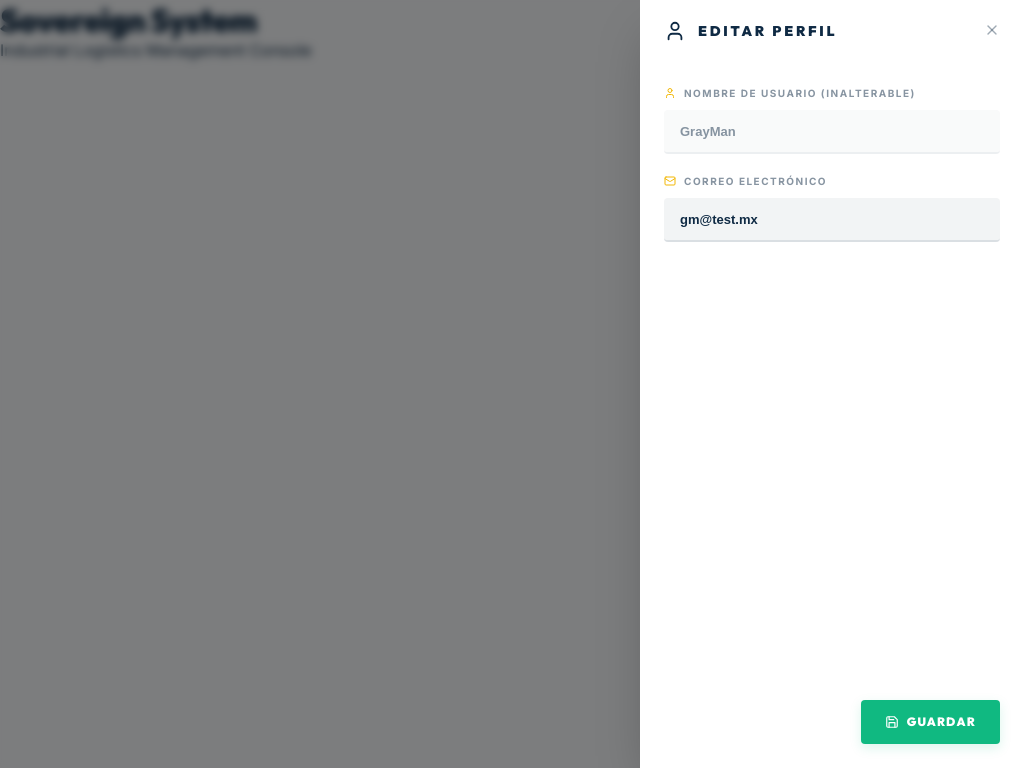
Test: ProfileEditSlideOver — contrato PATCH /auth/users/:id (FC 076 R6) › muestra éxito y sincroniza email en contexto tras 200
The image size is (1024, 768).
Click the button with test id "profile-edit-save". click: click(930, 722)
box: [861,700,1000,744]
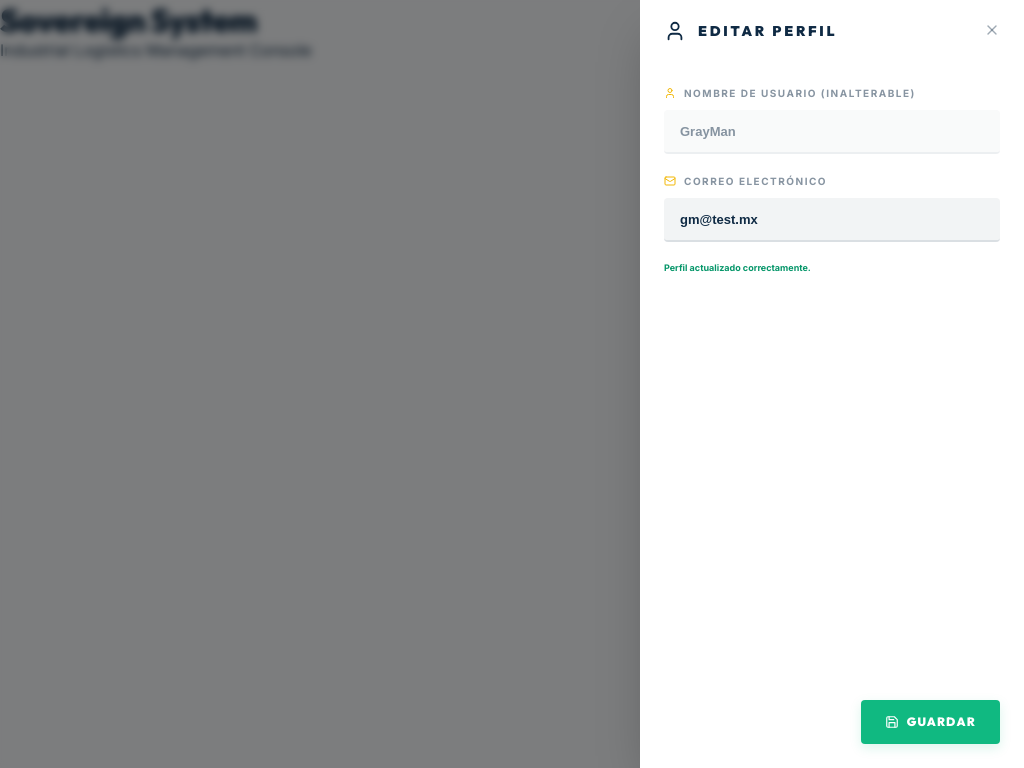
Expected: the text "Perfil actualizado correctamente." is shown, [664,262,811,273]
